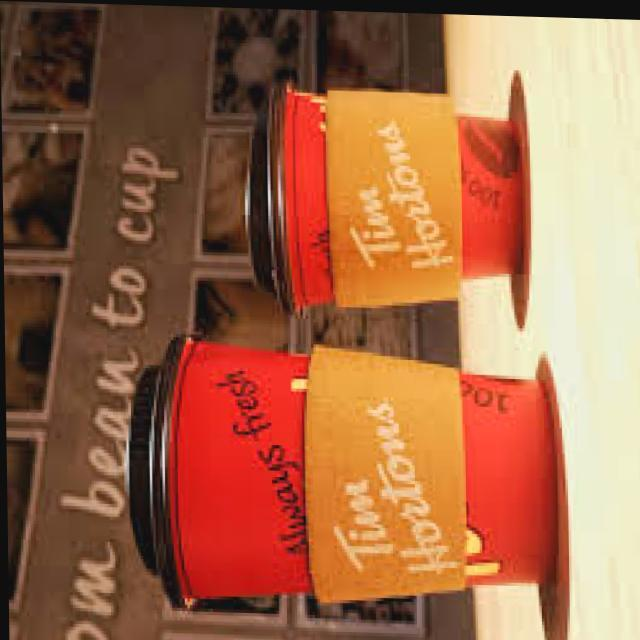timmies: (122, 328, 562, 614), (233, 67, 534, 322)
